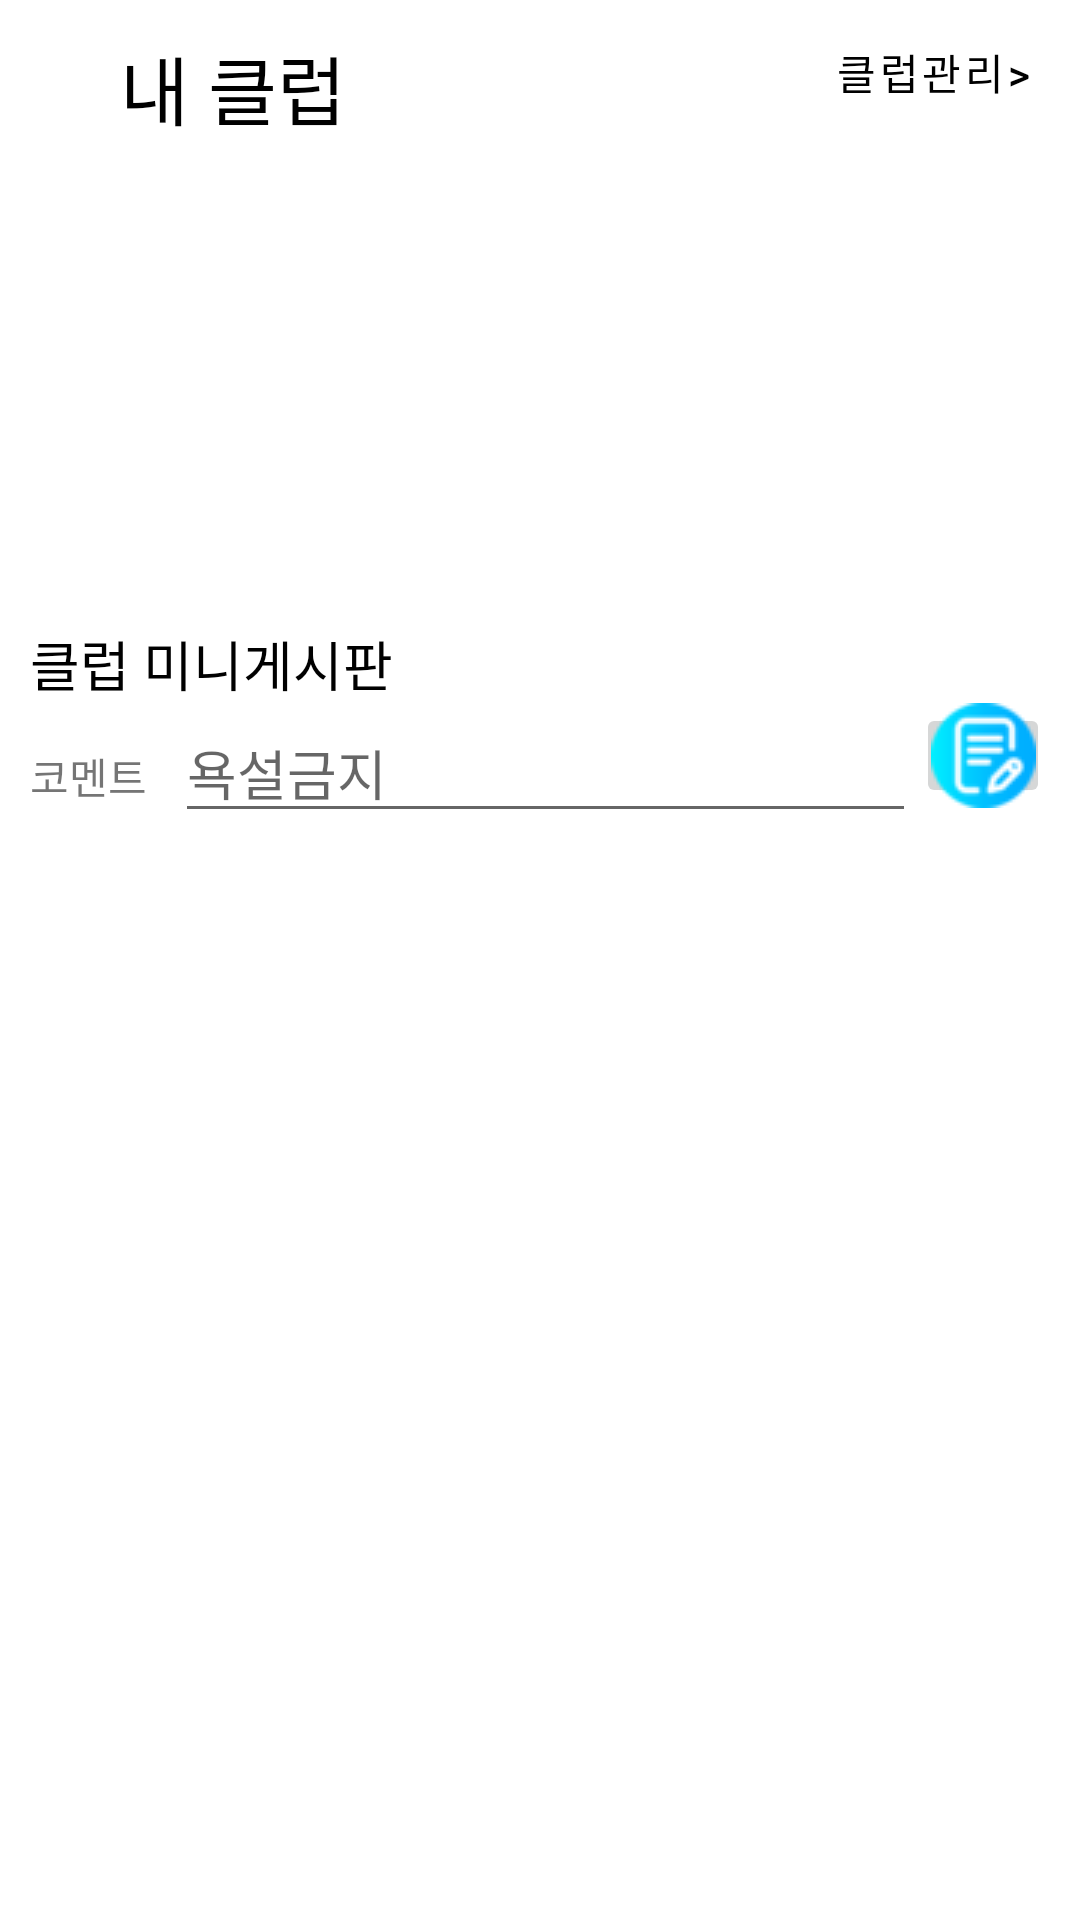

Where icons sit on this 1080x1920 app screen, as (x1, y1, x2, y2):
writing: (928, 703, 1038, 808)
